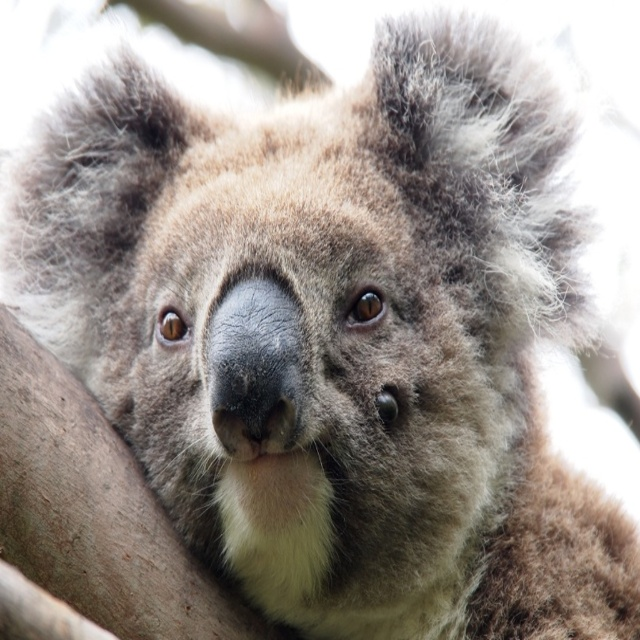Koala: (0, 10, 639, 639)
